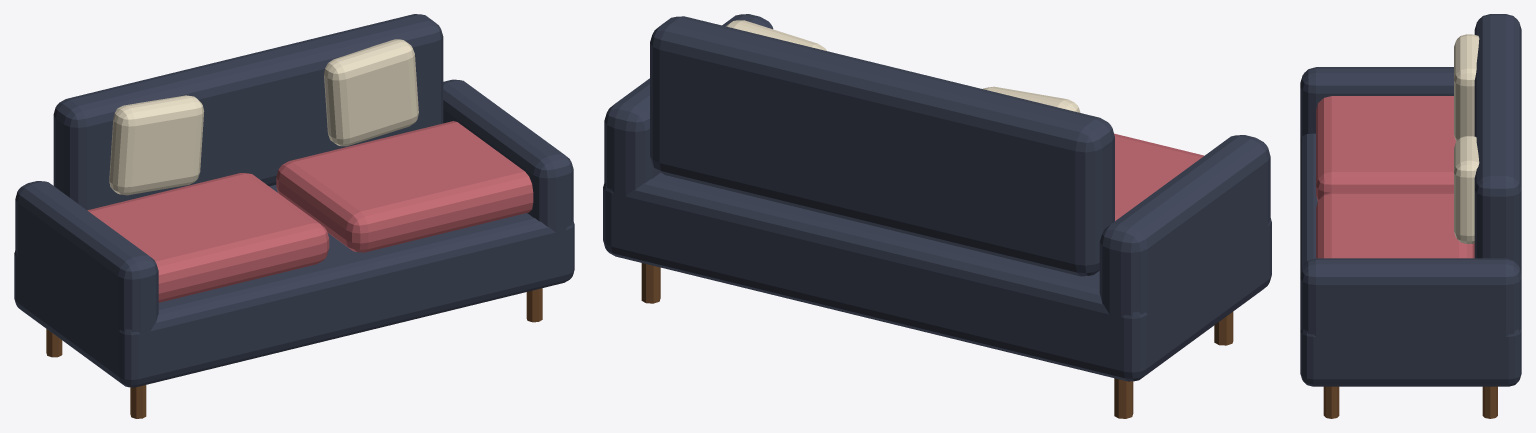
The model's file is sofa.glb.
The picture shows the model from 3 angles, left to right: view 1: azimuth 30°, elevation 25°; view 2: azimuth 150°, elevation 25°; view 3: azimuth 270°, elevation 25°; orthographic projection. The views are drawn at different scales.
Visible parts, largest first — view 1: base; view 2: base; view 3: base.
Boxes of the visible parts, x1,y1,x2,y2 form: base: (14, 14, 574, 418); base: (603, 14, 1271, 418); base: (1300, 14, 1521, 418).
Size of the model in its own units: 1.9 by 0.97 by 0.85.
